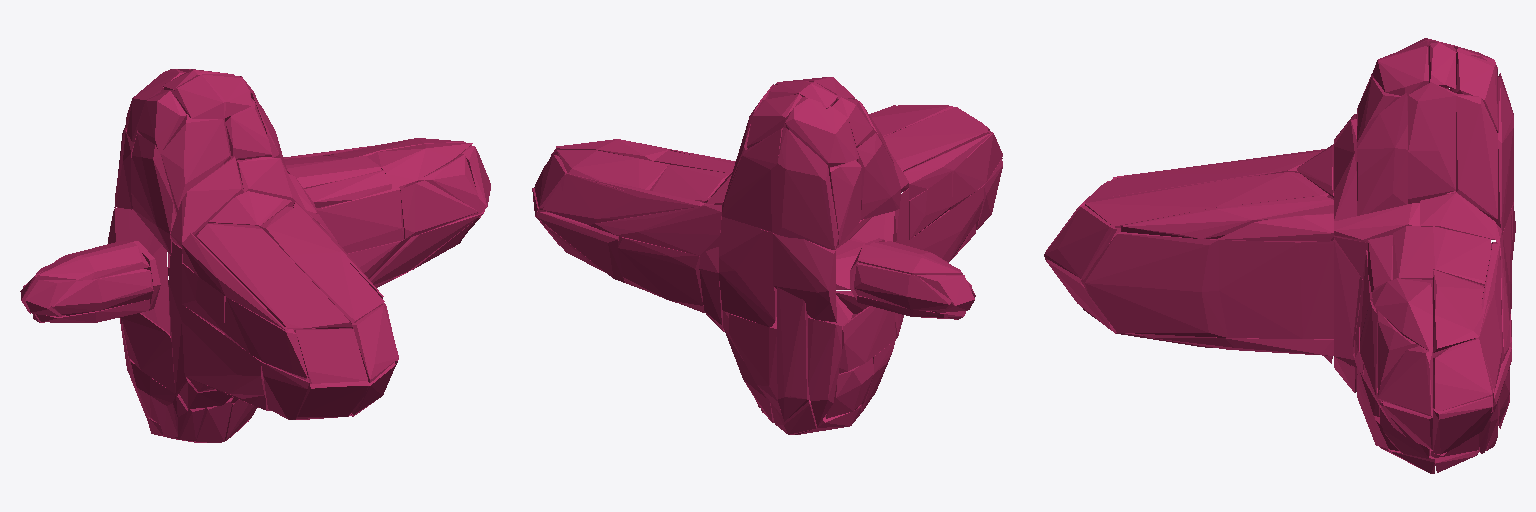
The robot description file, URDF, robot "blob086":
<robot name="blob086">
  <link name="random_obj_086">
    <contact>
      <lateral_friction value="1.0"/>
      <rolling_friction value="0.0"/>
      <inertia_scaling value="3.0"/>
      <contact_cfm value="0.0"/>
      <contact_erp value="1.0"/>
    </contact>
    <inertial>
      <origin rpy="0 0 0" xyz="0 0 0"/>
      <mass value="0.1"/>
      <inertia ixx="1" ixy="0" ixz="0" iyy="1" iyz="0" izz="0"/>
    </inertial>
    <visual>
      <origin rpy="0 0 0" xyz="0 0 0"/>
      <geometry>
        <mesh filename="086.obj" scale="0.015 0.015 0.015"/>
      </geometry>
      <material name="blockmat">
        <color rgba="0.71 0.22 0.42 1"/>
      </material>
    </visual>
    <collision>
      <origin rpy="0 0 0" xyz="0 0 0"/>
      <geometry>
        <mesh filename="086.obj" scale="0.015 0.015 0.015"/>
      </geometry>
    </collision>
  </link>
</robot>

--- What the picture shows (computed from the rendered views, not written in the file) ---
Views: 3 orthographic renders of the robot side by side, from view 1: azimuth 30°, elevation 25°; view 2: azimuth 150°, elevation 25°; view 3: azimuth 270°, elevation 25°.
Model blob086 with 1 links and 0 joints (none), rooted at random_obj_086, posed all joints at 0.
Visible links, largest first — view 1: random_obj_086; view 2: random_obj_086; view 3: random_obj_086.
Link boxes in pixels (x1,y1,x2,y2): random_obj_086: [20, 69, 490, 442]; random_obj_086: [532, 77, 1002, 434]; random_obj_086: [1044, 38, 1515, 473].
Size in the robot's own frame: 0.1197 by 0.0914 by 0.0903 metres.
Meshes: 1 distinct files referenced, 1 mesh visuals loaded (1 OBJ).